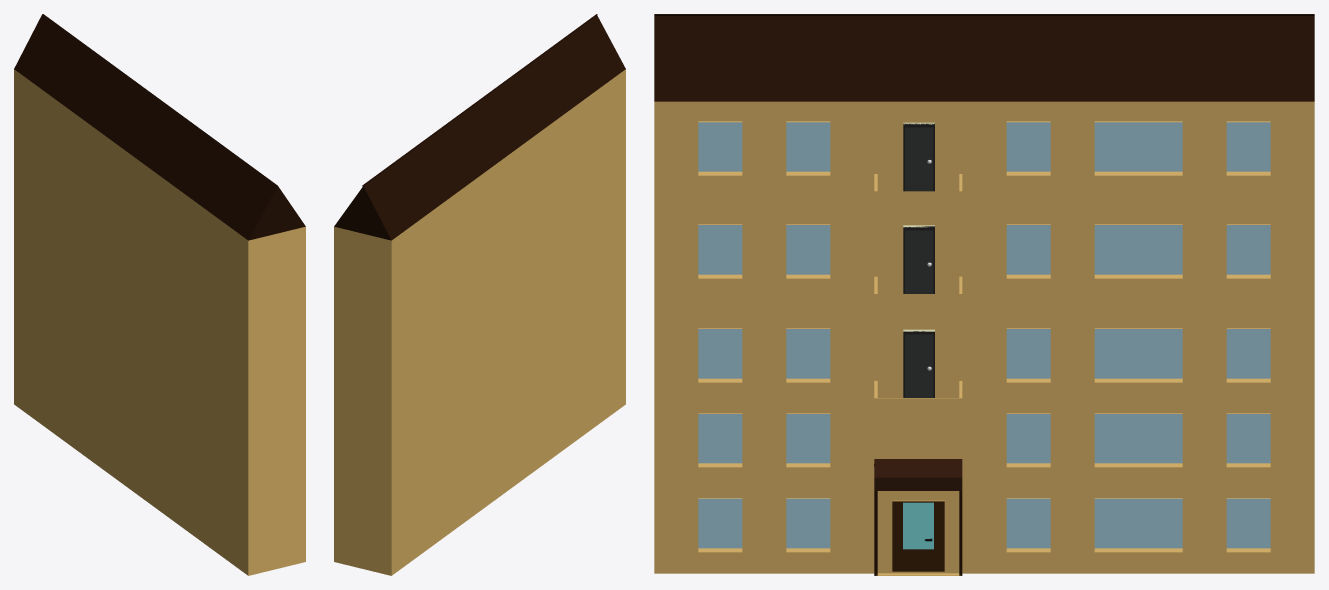
File: dom.fbx
The picture shows the model from 3 angles, left to right: view 1: azimuth 30°, elevation 25°; view 2: azimuth 150°, elevation 25°; view 3: azimuth 270°, elevation 25°; orthographic projection. The views are drawn at different scales.
Visible parts, largest first — view 1: Cube; view 2: Cube; view 3: Cube, Cube.001.
Part boxes in pixels (bbox=[...]): Cube: bbox=[14, 14, 305, 575]; Cube: bbox=[334, 14, 625, 575]; Cube: bbox=[654, 14, 1314, 575]; Cube.001: bbox=[903, 122, 934, 397].
Bounding box in the file's own units: 289 × 1272 × 1411.
